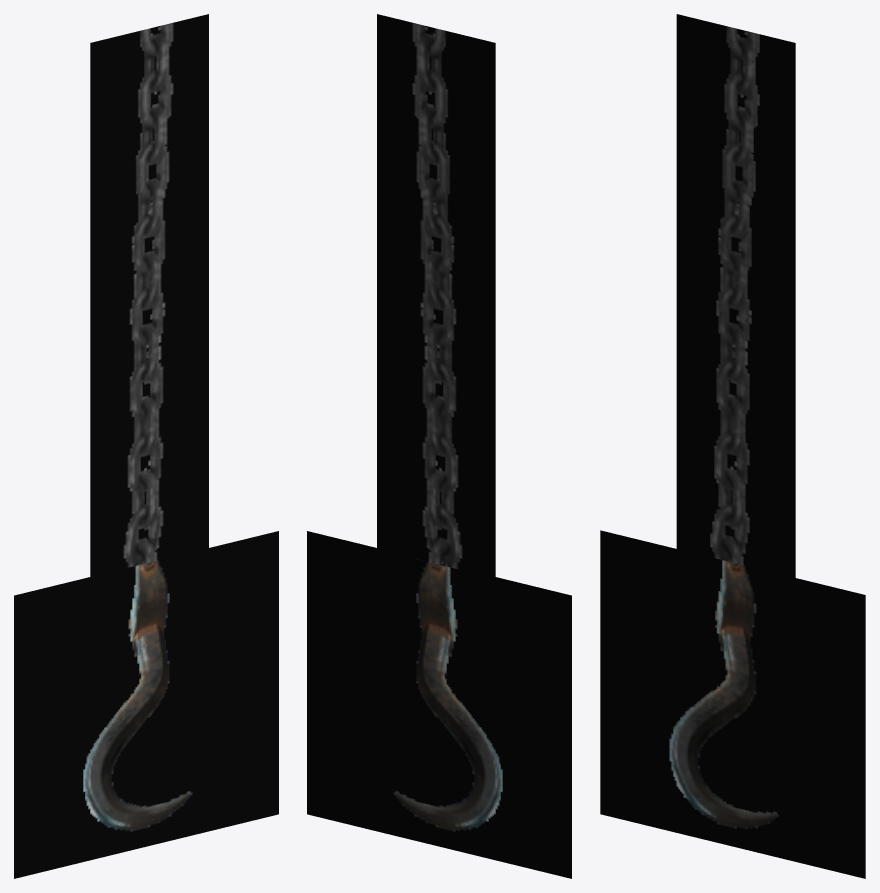
File: meat_hook.FBX
3 renders of one model, left to right at view 1: azimuth 30°, elevation 25°; view 2: azimuth 150°, elevation 25°; view 3: azimuth 330°, elevation 25°, orthographic.
Parts seen in each view (by area): view 1: meat_hook; view 2: meat_hook; view 3: meat_hook.
Boxes of the visible parts, left/top/right/bottom form: meat_hook: left=14, top=14, right=278, bottom=878; meat_hook: left=307, top=14, right=571, bottom=878; meat_hook: left=600, top=14, right=865, bottom=878.
Size of the model in its own units: 19.15 by 56.46 by 4.98e-06.
